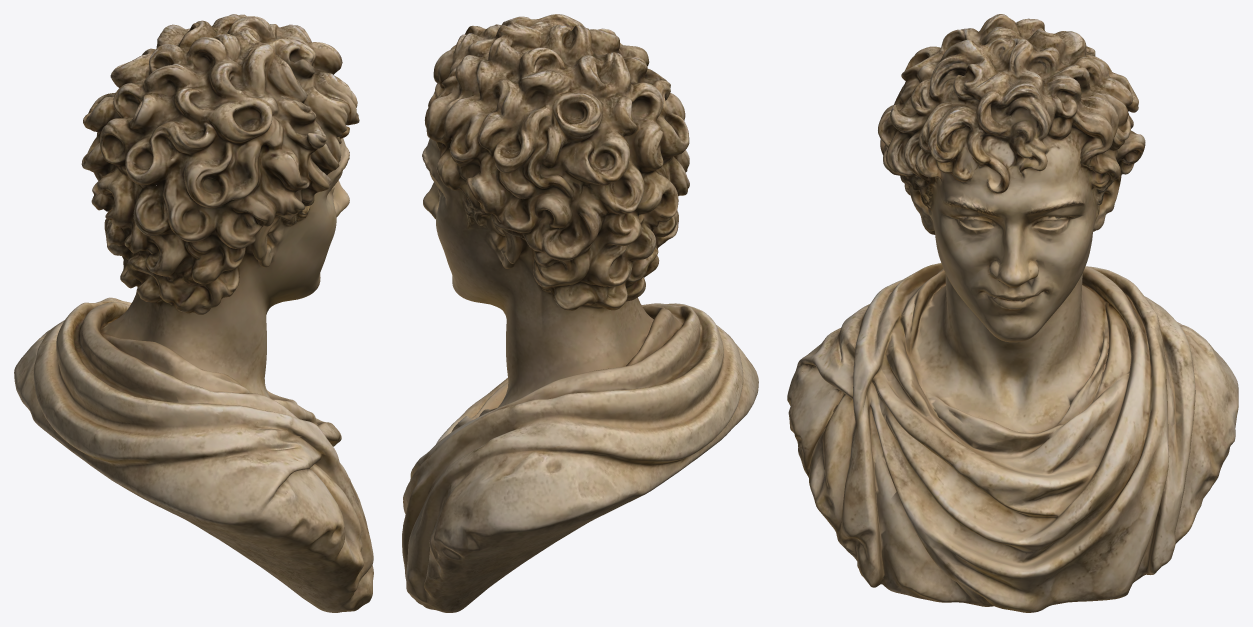
File: bust.glb
3 renders of one model, left to right at view 1: azimuth 30°, elevation 25°; view 2: azimuth 150°, elevation 25°; view 3: azimuth 270°, elevation 25°, orthographic. The views are drawn at different scales.
Visible parts, largest first — view 1: tripo_node_92d3278e-1cf1-4138-9695-1ac06c30333c; view 2: tripo_node_92d3278e-1cf1-4138-9695-1ac06c30333c; view 3: tripo_node_92d3278e-1cf1-4138-9695-1ac06c30333c.
Part boxes in pixels (left/top/right/bottom): tripo_node_92d3278e-1cf1-4138-9695-1ac06c30333c: left=14, top=14, right=373, bottom=612; tripo_node_92d3278e-1cf1-4138-9695-1ac06c30333c: left=402, top=14, right=758, bottom=612; tripo_node_92d3278e-1cf1-4138-9695-1ac06c30333c: left=787, top=14, right=1238, bottom=612.
Bounding box in the file's own units: 0.516 × 0.981 × 0.739.
1 material, 1 textured.
